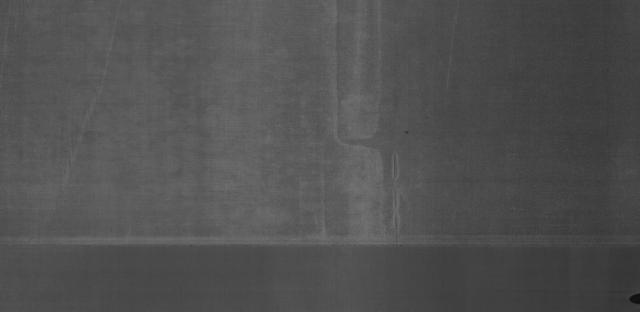punching_hole: (628, 291, 640, 306)
welding_line: (1, 235, 640, 253)
